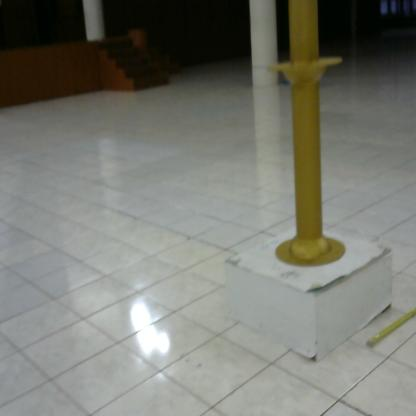pole: (259, 1, 361, 277)
